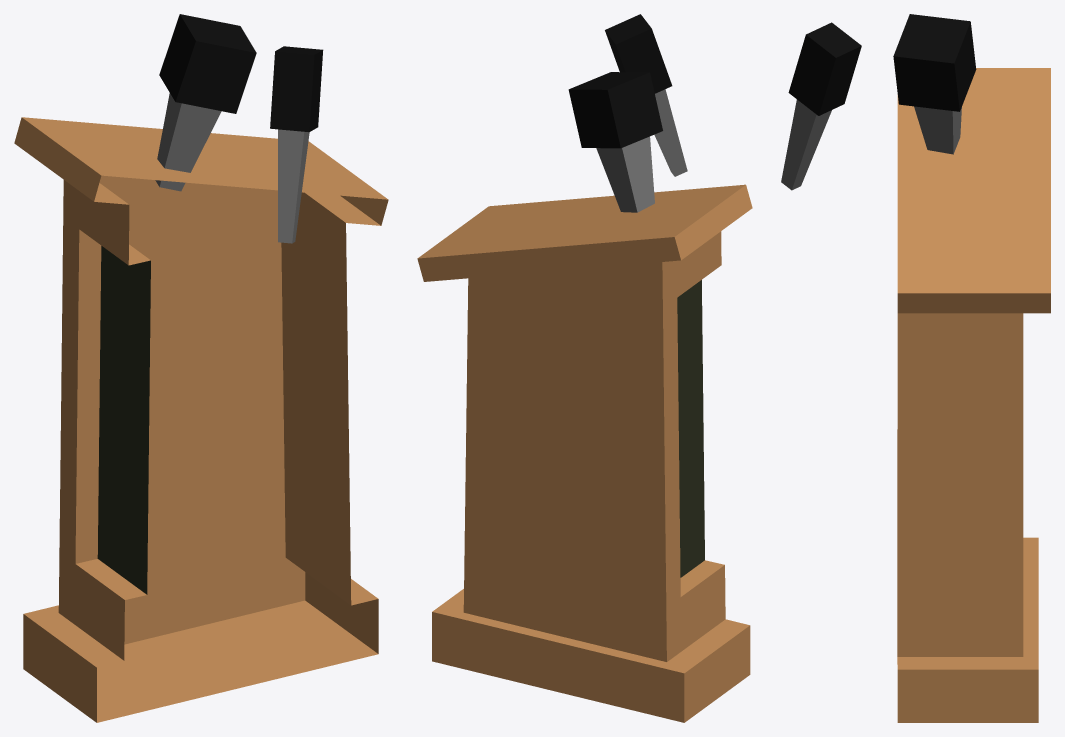
The model's file is podium.glb.
3 views of the same model, side by side, from view 1: azimuth 30°, elevation 25°; view 2: azimuth 150°, elevation 25°; view 3: azimuth 270°, elevation 25° (orthographic). The views are drawn at different scales.
Parts seen in each view (by area): view 1: Cube, Cube.001, Cube.002; view 2: Cube, Cube.001, Cube.002; view 3: Cube, Cube.001, Cube.002.
Part boxes in pixels (x1,y1,x2,y2): Cube: [14, 117, 388, 722]; Cube.001: [155, 14, 256, 191]; Cube.002: [270, 46, 323, 243]; Cube: [417, 184, 752, 722]; Cube.001: [568, 72, 662, 212]; Cube.002: [605, 14, 687, 176]; Cube: [897, 68, 1050, 722]; Cube.001: [893, 14, 976, 154]; Cube.002: [781, 22, 861, 190].
Size of the model in its own units: 1.98 by 4.25 by 1.63.
